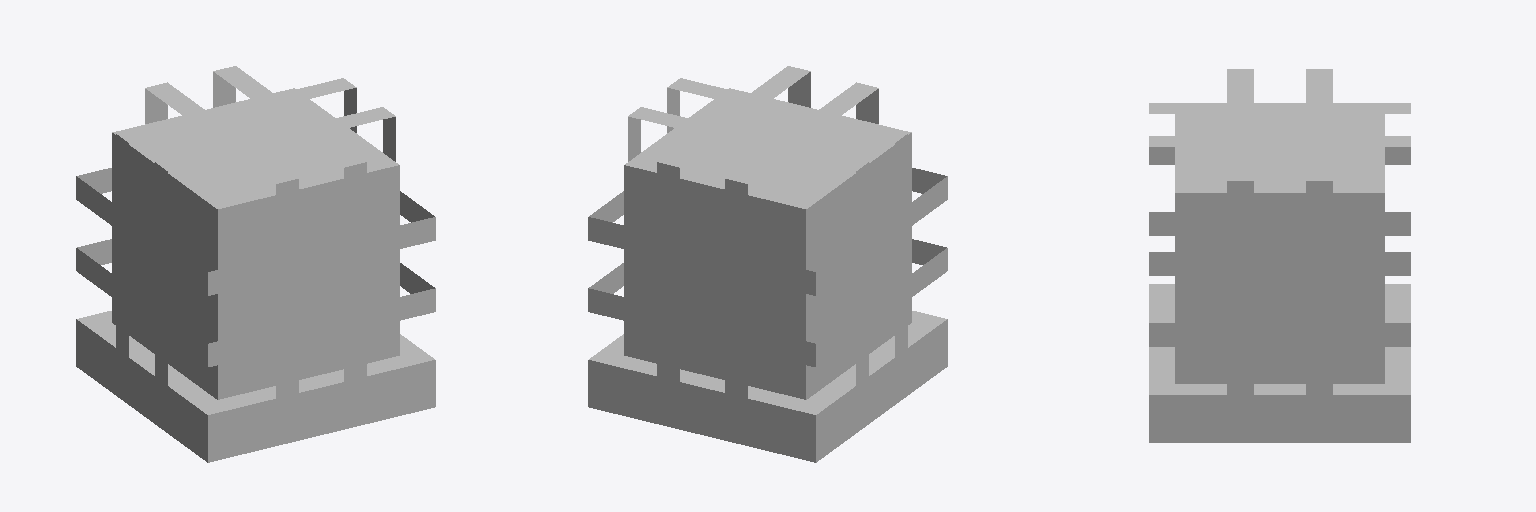
Rendered from cagelamp.obj.
3 renders of one model, left to right at view 1: azimuth 30°, elevation 25°; view 2: azimuth 150°, elevation 25°; view 3: azimuth 270°, elevation 25°, orthographic.
Parts seen in each view (by area): view 1: cube; view 2: cube; view 3: cube.
Boxes of the visible parts, x1=… form: cube: x1=76, y1=66, x2=435, y2=462; cube: x1=588, y1=66, x2=947, y2=462; cube: x1=1149, y1=69, x2=1410, y2=442.
Bounding box in the file's own units: 0.625 × 0.6875 × 0.625.